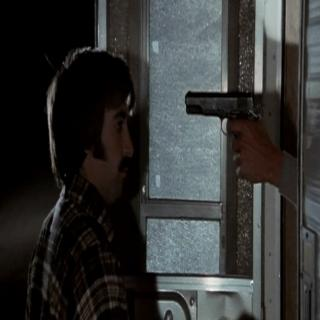gun: (184, 86, 260, 185)
